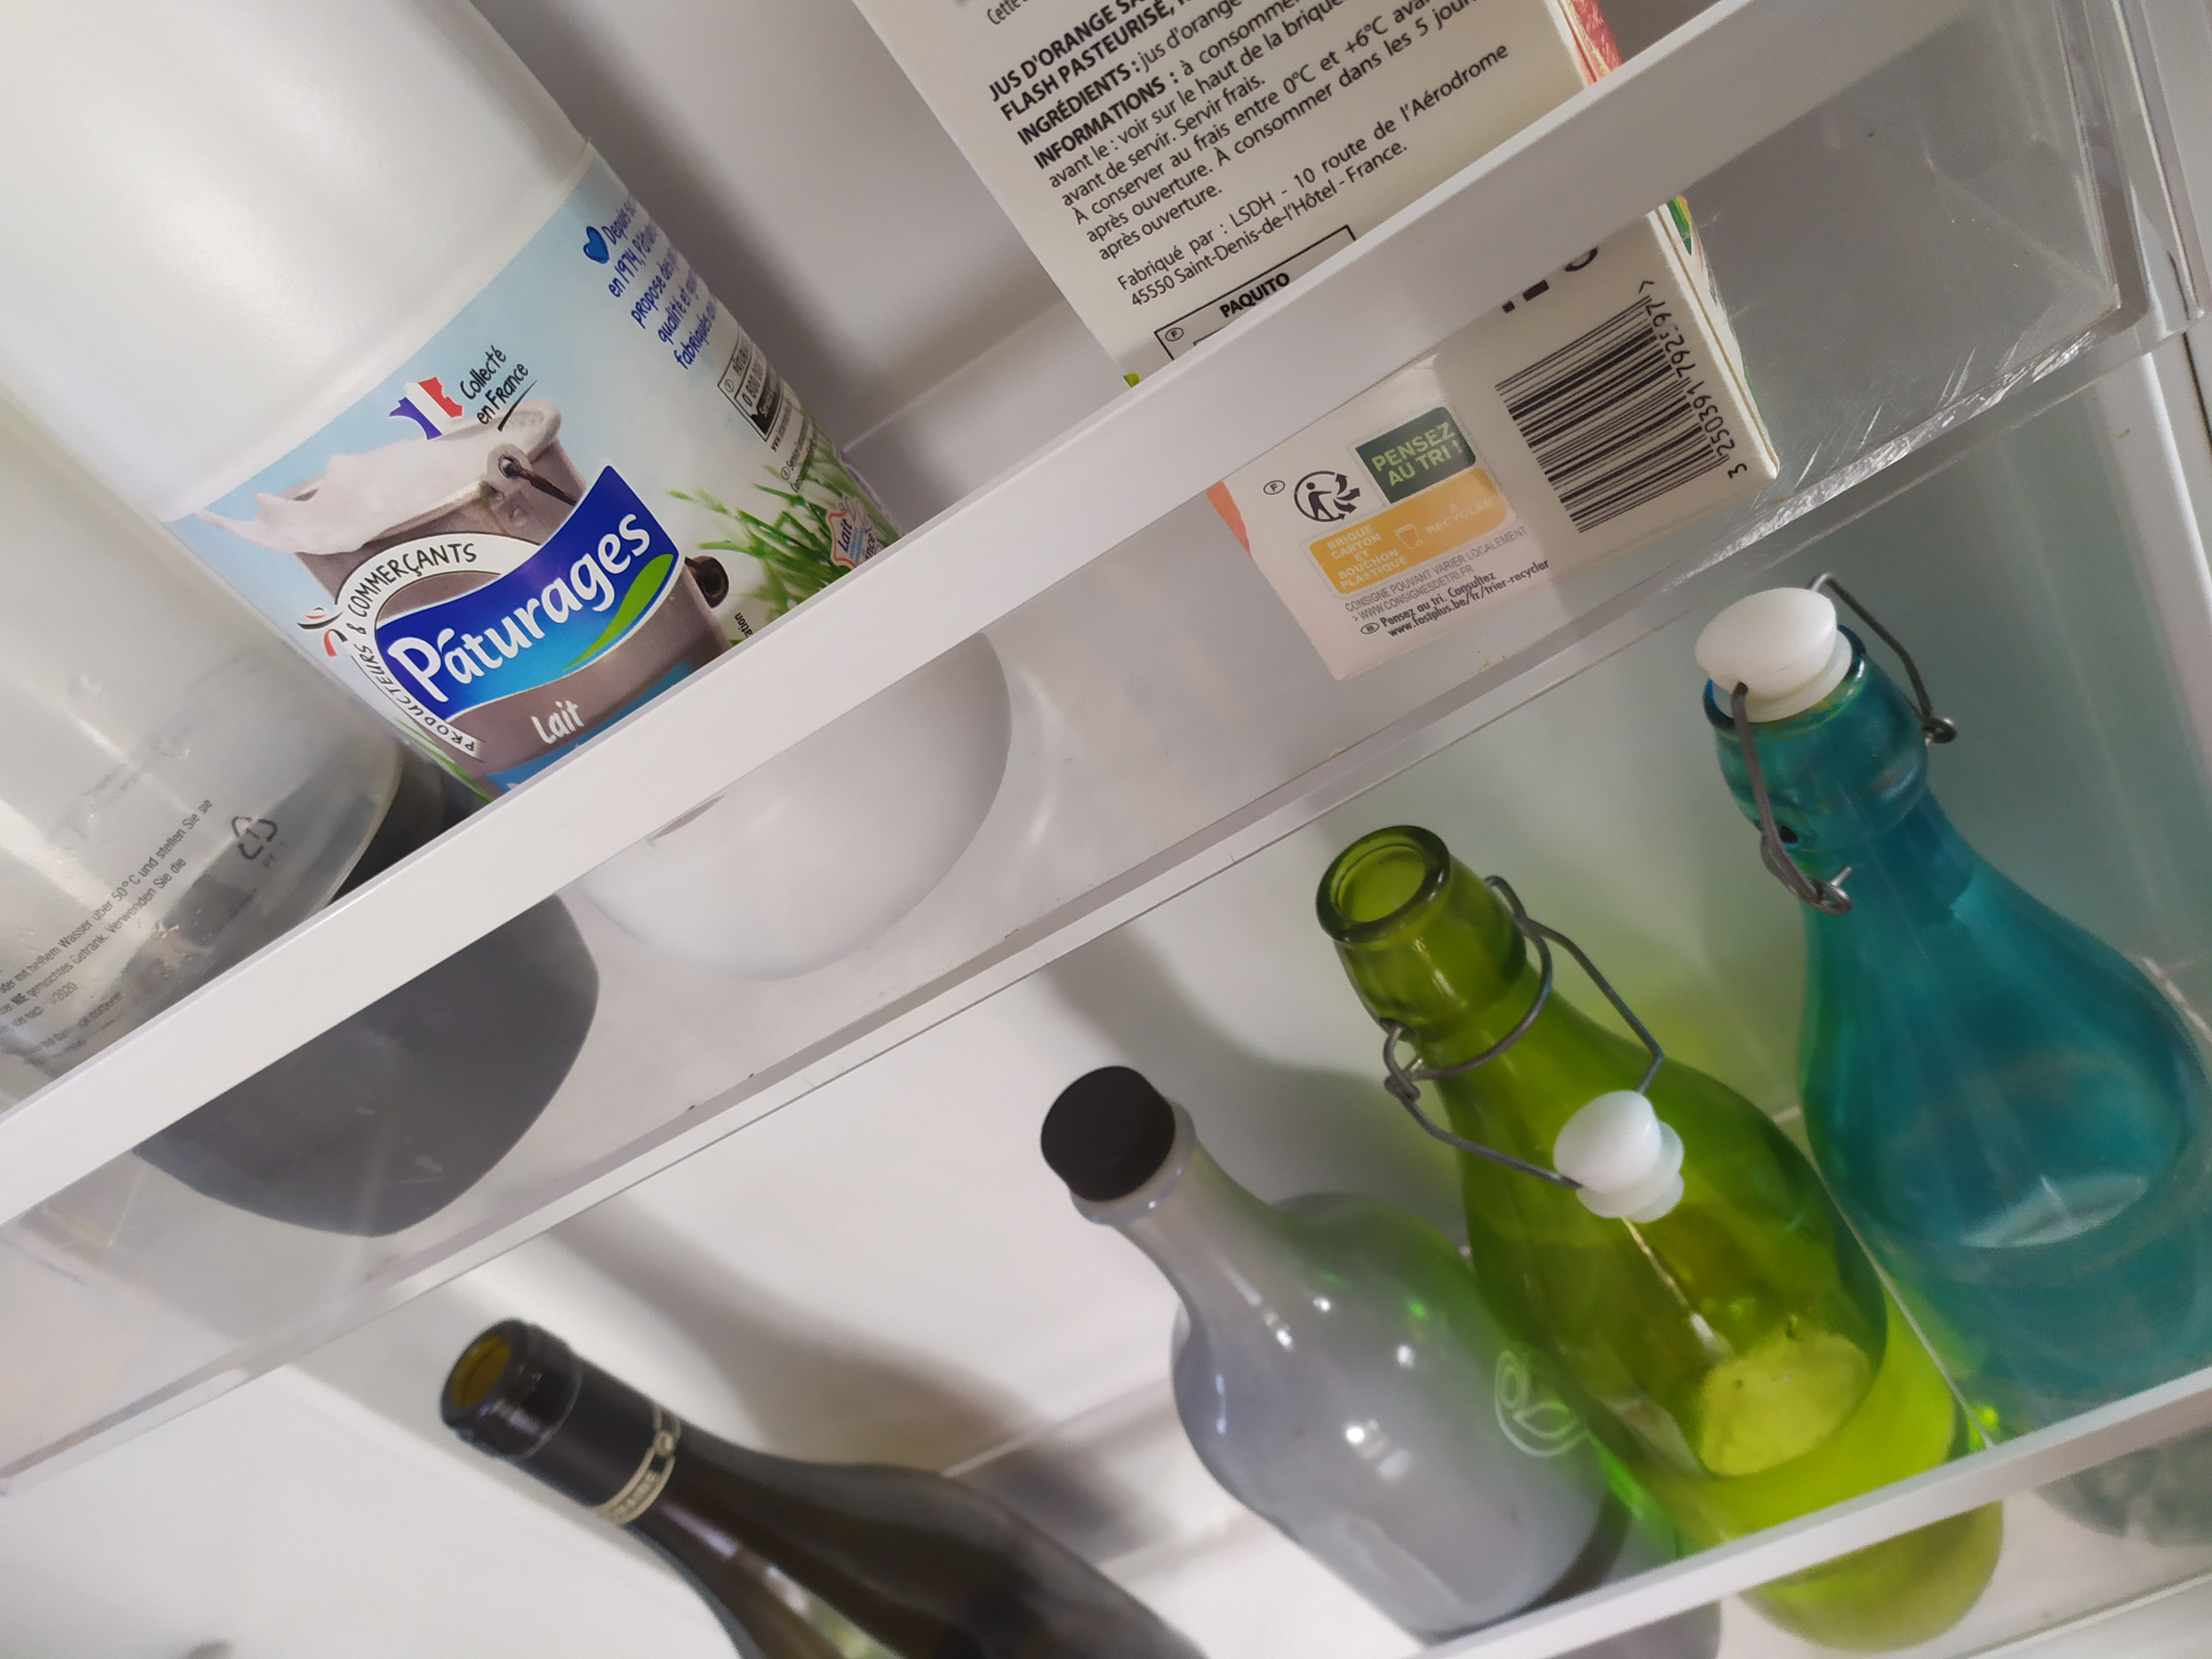bottle: (0, 0, 1019, 971), (845, 0, 1785, 685), (1320, 823, 2015, 1659), (0, 387, 597, 1243), (1700, 575, 2212, 1570), (1029, 1065, 1728, 1659), (439, 1317, 1205, 1659)
